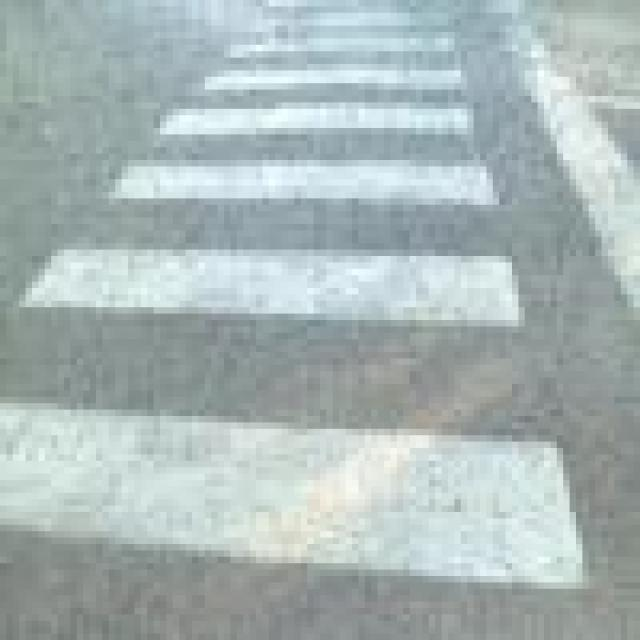crosswalk: (1, 4, 596, 604)
